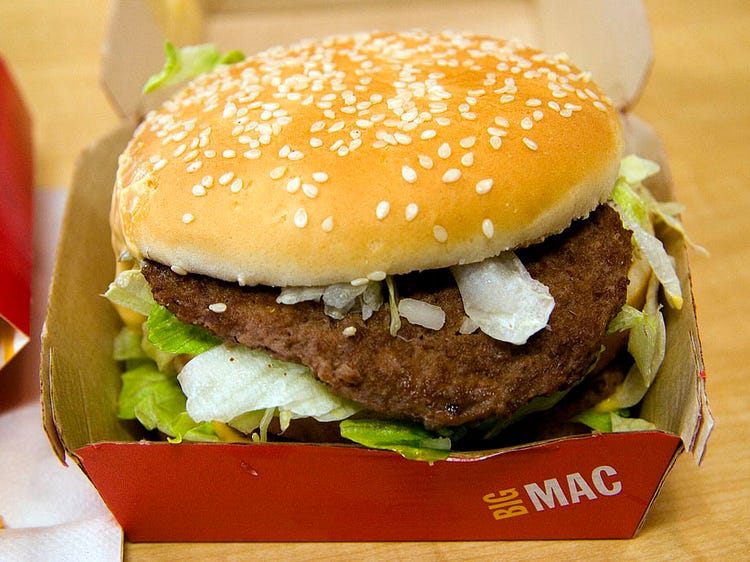hamburger_buns: (109, 27, 643, 270)
